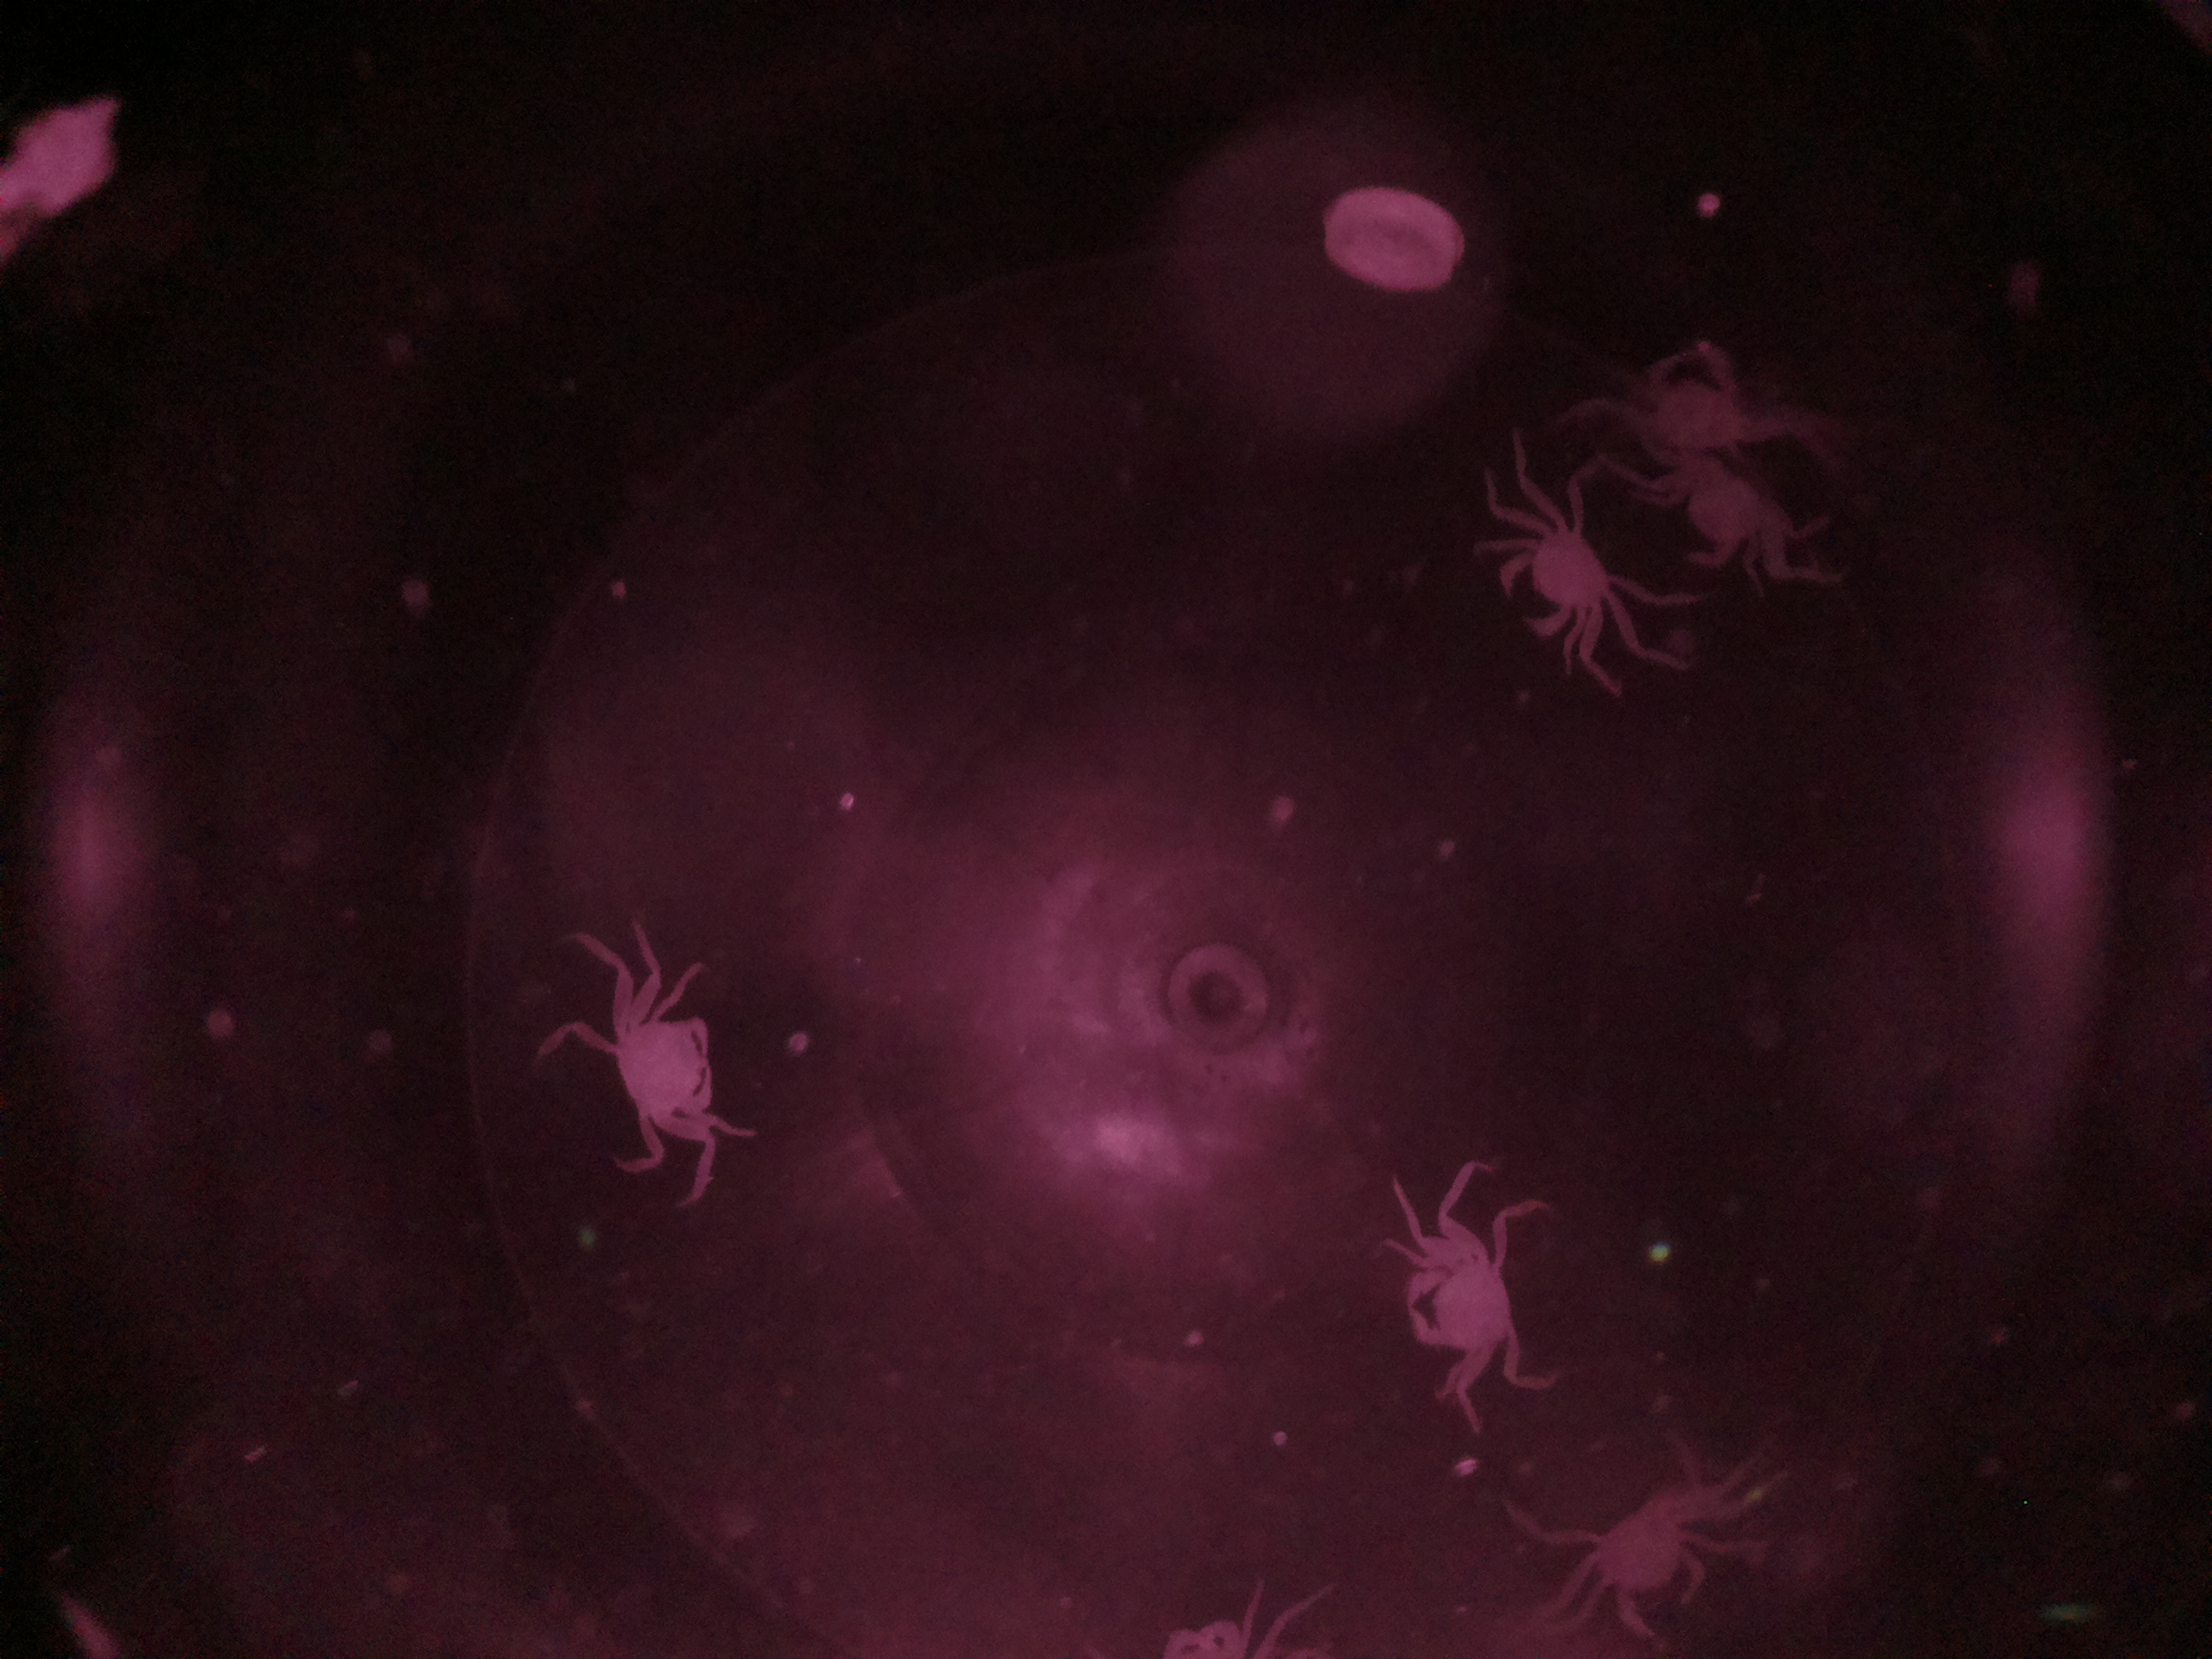Crab: (573, 948, 756, 1175), (1371, 1209, 1543, 1420), (1552, 1452, 1726, 1659), (1484, 469, 1639, 671)
